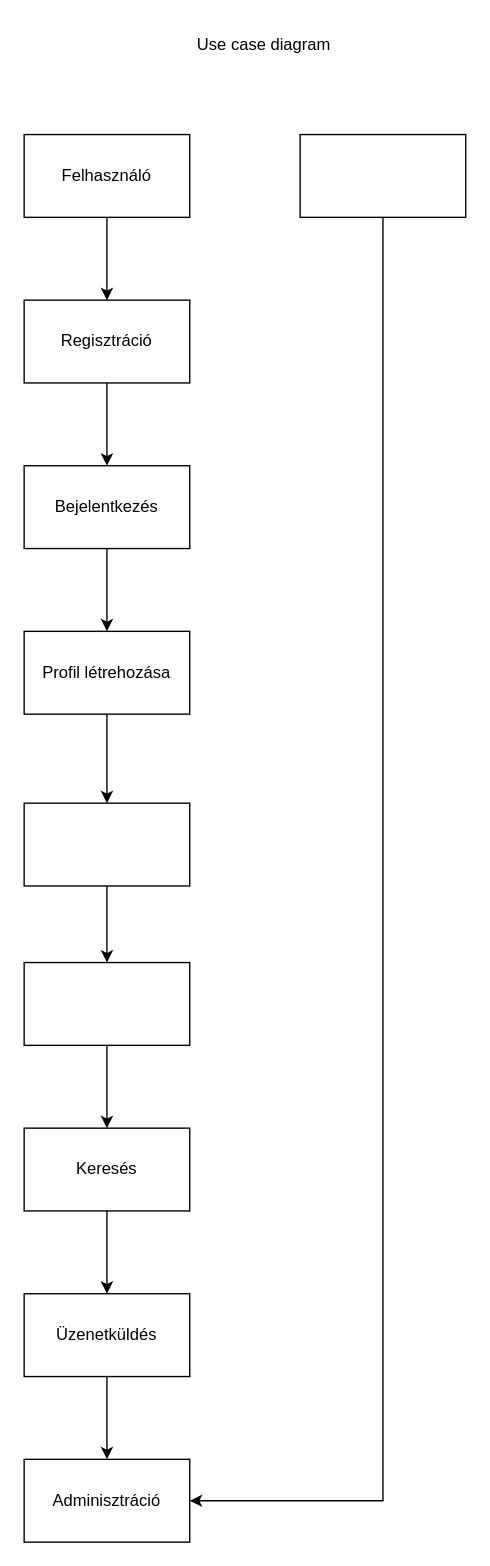
Some shapes in this 490 by 1566 pixel diagram are drawn without their labels. The centre of each missing label's shape, as x and y in pixels:
"Adminisztrátor" belongs at [382,175].
"Profil megtekintése" belongs at [106,1003].
"Profil szerkesztése" belongs at [106,844].
